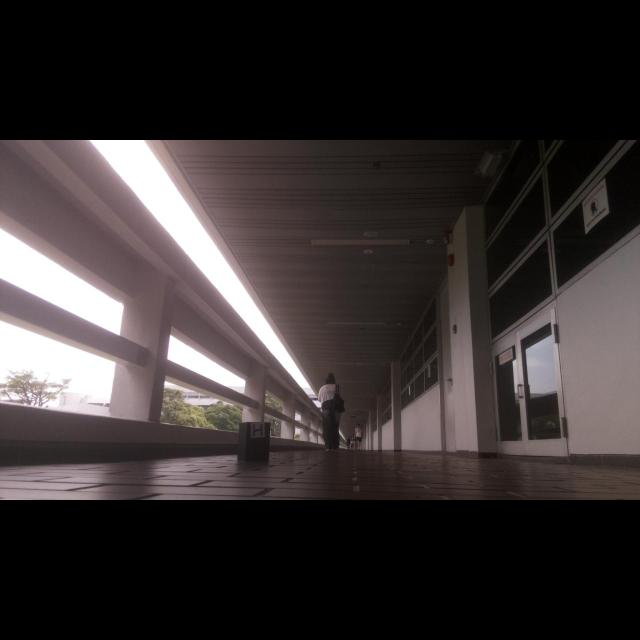H: (253, 424, 263, 436)
